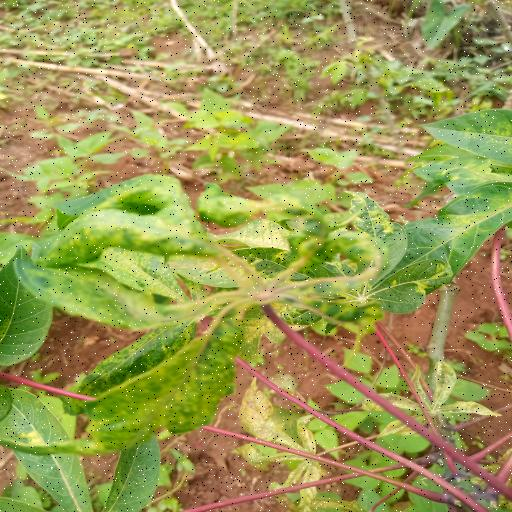Cassava_Mosaic: (20, 168, 411, 449)
